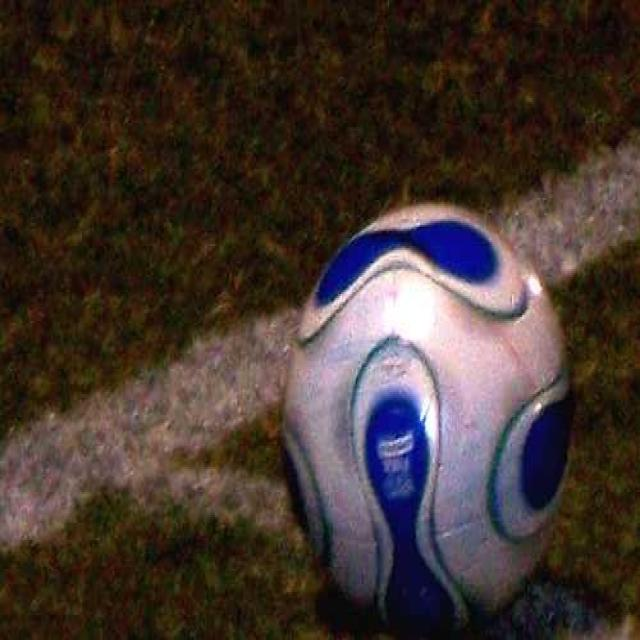ball: (281, 203, 571, 638)
